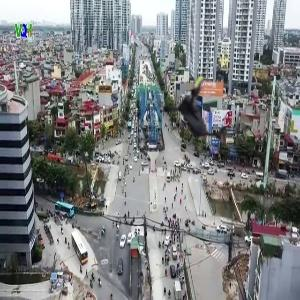drone: (154, 68, 247, 161)
